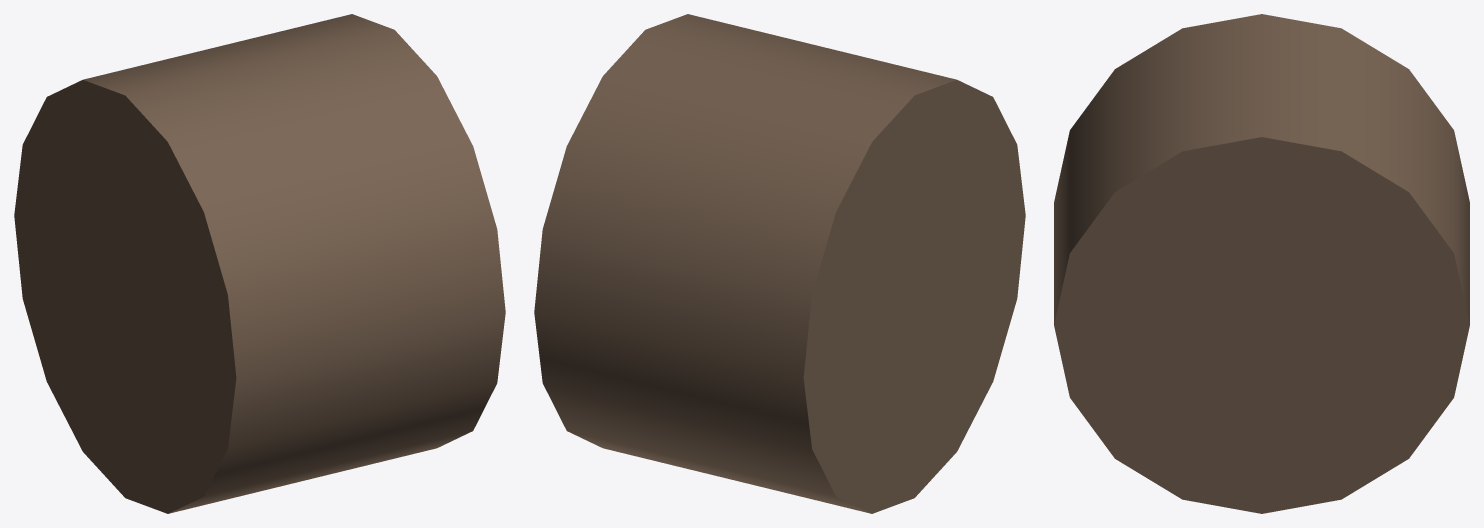
The model's file is monster-tires.glb.
The picture shows the model from 3 angles, left to right: view 1: azimuth 30°, elevation 25°; view 2: azimuth 150°, elevation 25°; view 3: azimuth 270°, elevation 25°; orthographic projection. The views are drawn at different scales.
Parts seen in each view (by area): view 1: monster-tires; view 2: monster-tires; view 3: monster-tires.
Boxes of the visible parts, x1,y1,x2,y2 form: monster-tires: (14,14,505,513); monster-tires: (534,14,1025,513); monster-tires: (1054,14,1469,513).
Bounding box in the file's own units: 0.7 × 1 × 1.
